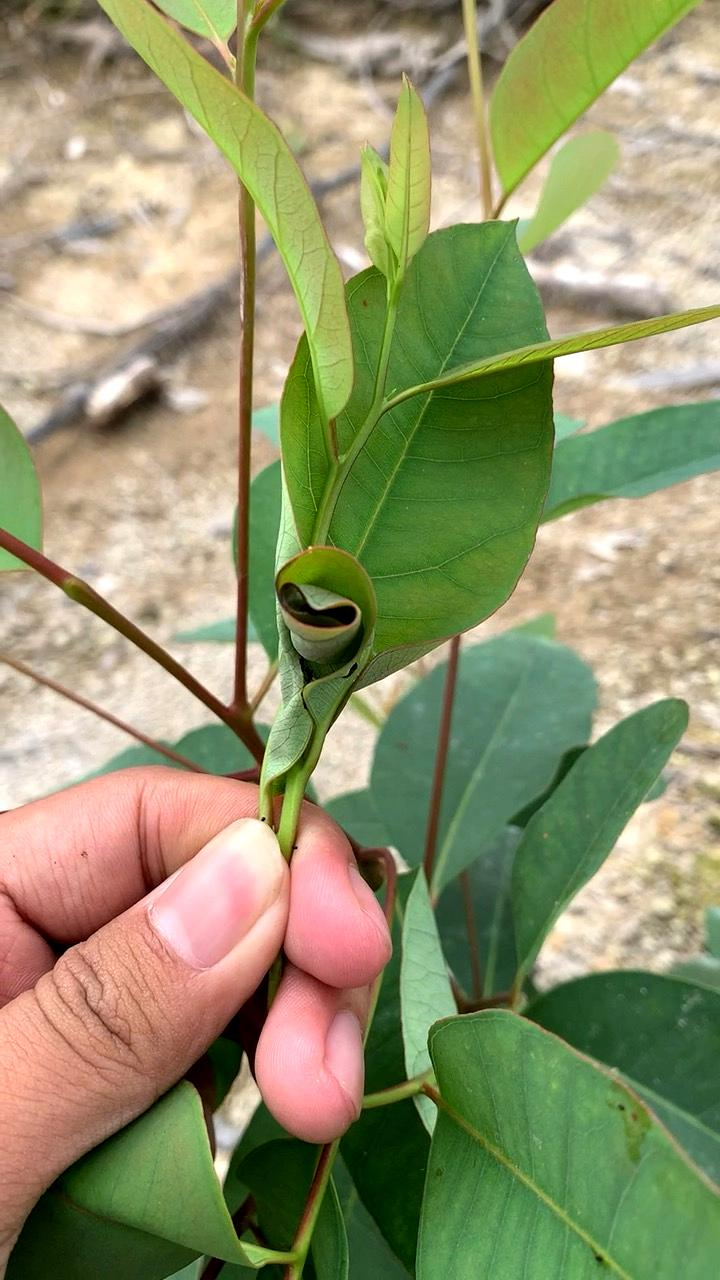Leaf Roller - Leaf: (213, 528, 446, 778)
